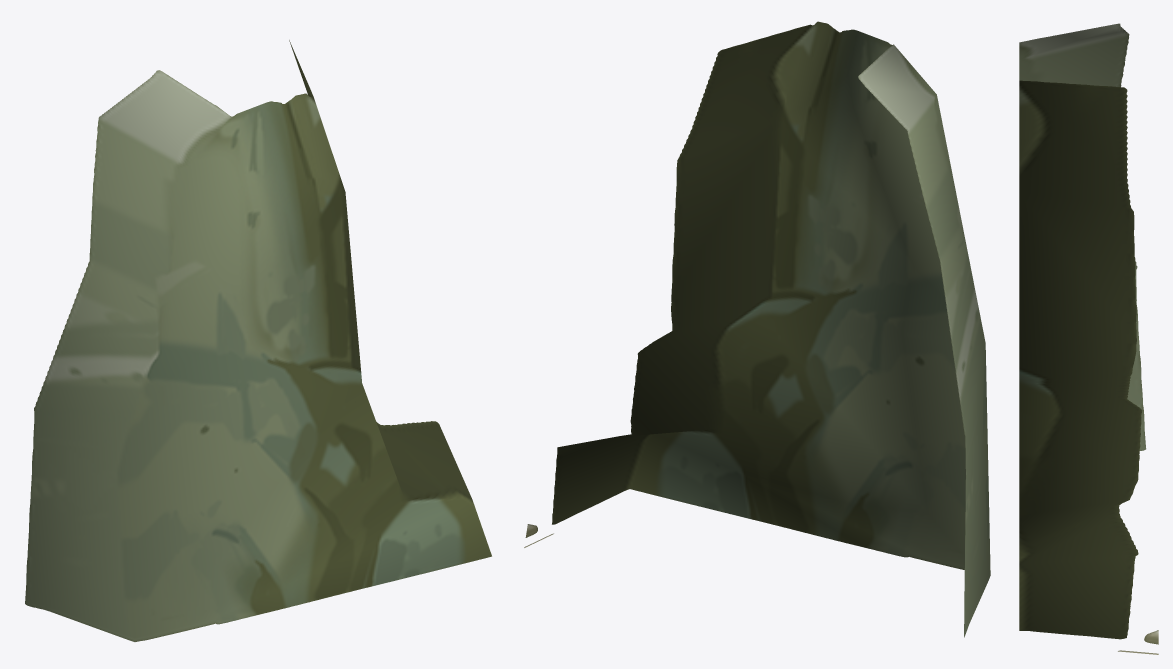
Rendered from Chapter4Scene1Model2.FBX.
3 renders of one model, left to right at view 1: azimuth 30°, elevation 25°; view 2: azimuth 150°, elevation 25°; view 3: azimuth 270°, elevation 25°, orthographic. The views are drawn at different scales.
Parts seen in each view (by area): view 1: Chapter4Scene1Model2; view 2: Chapter4Scene1Model2; view 3: Chapter4Scene1Model2.
Part boxes in pixels (box(x1,y1,x2,y2)): Chapter4Scene1Model2: box(25, 40, 491, 641); Chapter4Scene1Model2: box(524, 21, 990, 637); Chapter4Scene1Model2: box(1019, 23, 1158, 654).
Bounding box in the file's own units: 93.98 × 28.14 × 111.
